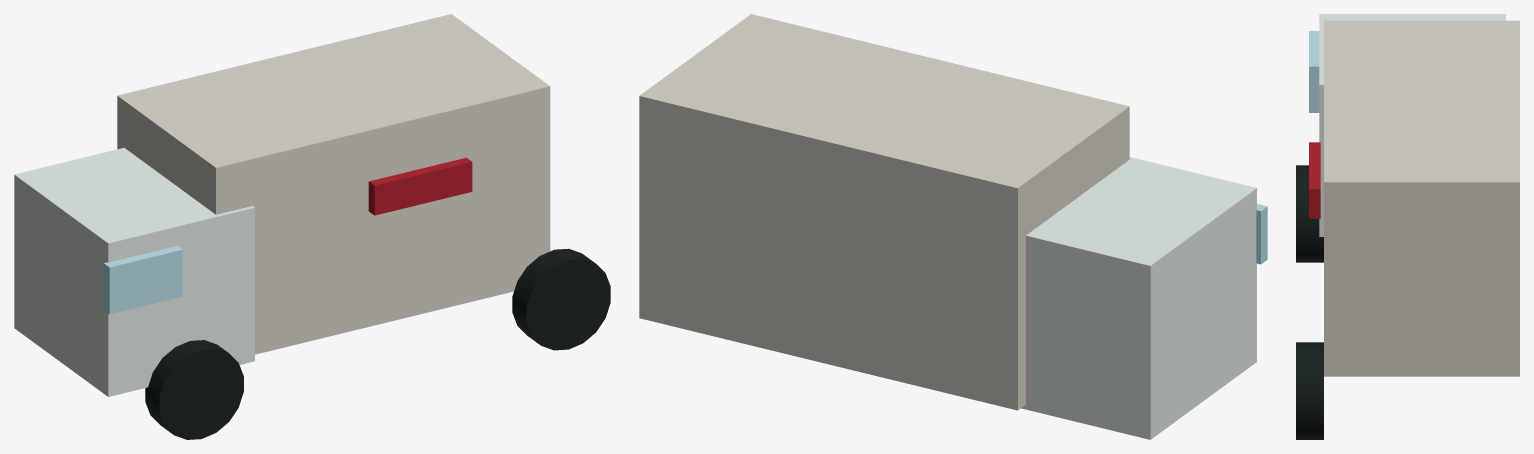
Rendered from delivery_truck.glb.
3 views of the same model, side by side, from view 1: azimuth 30°, elevation 25°; view 2: azimuth 150°, elevation 25°; view 3: azimuth 270°, elevation 25° (orthographic). The views are drawn at different scales.
Parts seen in each view (by area): view 1: cargo, cab, wheel_0.42, wheel_-0.48, windshield, red_logo; view 2: cargo, cab, windshield; view 3: cargo, wheel_0.42, cab, wheel_-0.48, red_logo, windshield.
Boxes of the visible parts, x1,y1,x2,y2 form: cargo: (117, 14, 550, 354); cab: (14, 148, 254, 396); wheel_0.42: (512, 248, 610, 350); wheel_-0.48: (145, 340, 243, 439); windshield: (103, 246, 182, 314); red_logo: (368, 157, 472, 215); cargo: (639, 14, 1129, 410); cab: (1021, 157, 1256, 439); windshield: (1256, 204, 1267, 264); cargo: (1324, 20, 1519, 376); wheel_0.42: (1296, 342, 1323, 439); cab: (1319, 14, 1505, 236); wheel_-0.48: (1296, 165, 1323, 262); red_logo: (1309, 142, 1320, 218); windshield: (1309, 31, 1319, 112).
Size of the model in its own units: 1.21 by 0.595 by 0.48.
